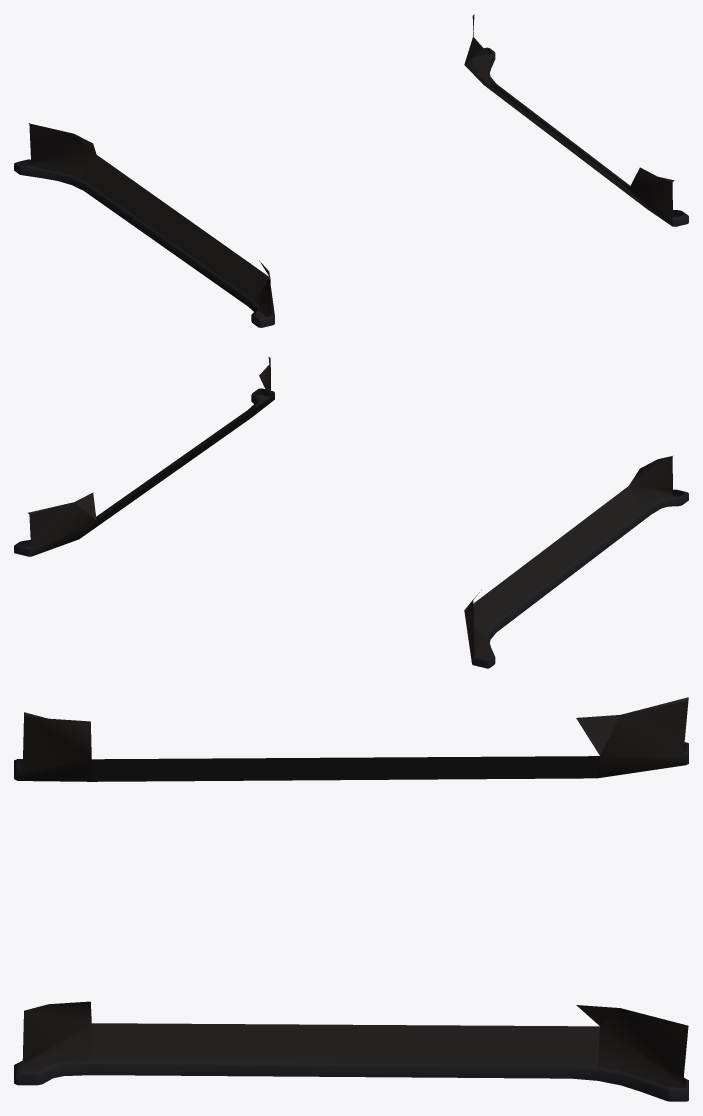
Rendered from RWB_Skirt_01_Trim.fbx.
The picture shows the model from 3 angles, top to bottom: view 1: azimuth 30°, elevation 25°; view 2: azimuth 150°, elevation 25°; view 3: azimuth 270°, elevation 25°; orthographic projection. The views are drawn at different scales.
Visible parts, largest first — view 1: RWB_Skirt_01_Trim; view 2: RWB_Skirt_01_Trim; view 3: RWB_Skirt_01_Trim.
Part boxes in pixels (x1=…): RWB_Skirt_01_Trim: x1=14, y1=14, x2=688, y2=327; RWB_Skirt_01_Trim: x1=14, y1=357, x2=688, y2=668; RWB_Skirt_01_Trim: x1=14, y1=697, x2=688, y2=1101.
Size of the model in its own units: 186 by 16.28 by 152.
